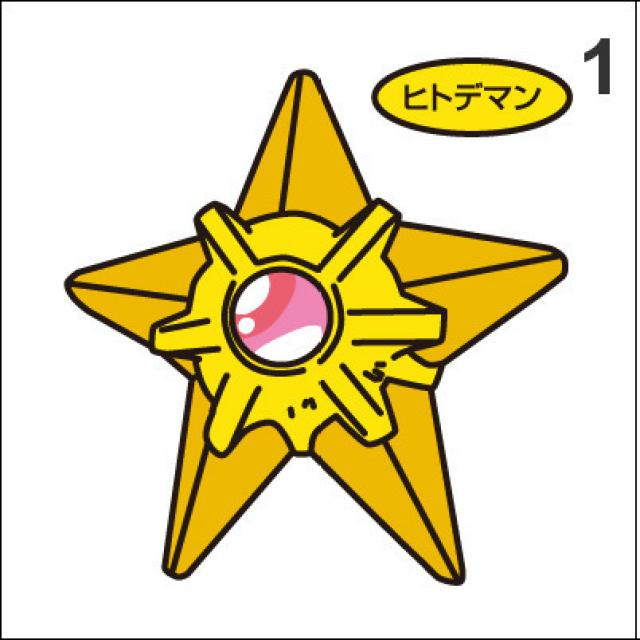Staryu: (64, 69, 566, 579)
